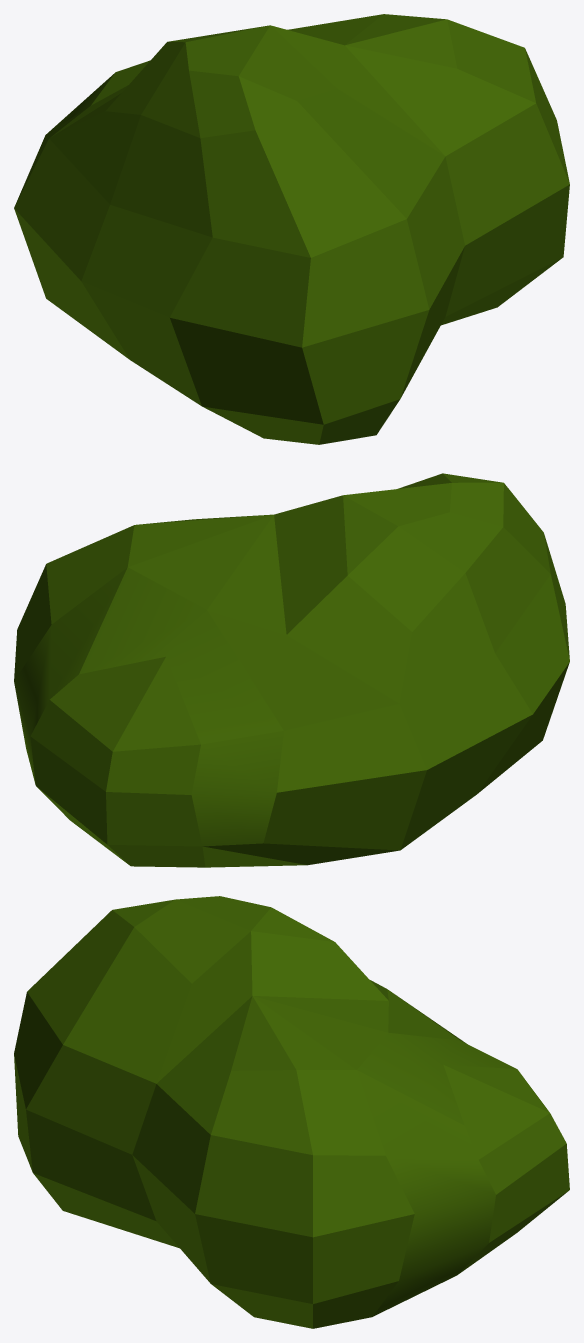
File: Bush_01.fbx
3 renders of one model, top to bottom at view 1: azimuth 30°, elevation 25°; view 2: azimuth 150°, elevation 25°; view 3: azimuth 270°, elevation 25°, orthographic. The views are drawn at different scales.
Visible parts, largest first — view 1: Bush_Model_01; view 2: Bush_Model_01; view 3: Bush_Model_01.
Part boxes in pixels (box(x1,y1,x2,y2)): Bush_Model_01: box(14, 14, 569, 444); Bush_Model_01: box(14, 473, 569, 867); Bush_Model_01: box(14, 896, 569, 1328).
Bounding box in the file's own units: 9.52 × 6.02 × 10.26.
1 material, 1 textured.
